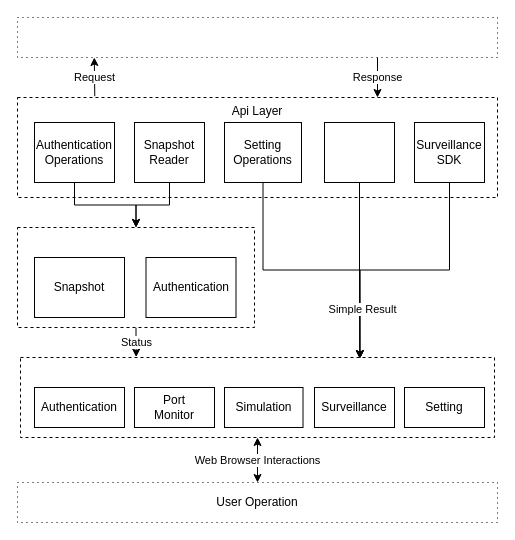
This 515x540 diagram has some shape labels left out. Each missing label, with the box of its shape:
Consistent Store: (16, 226, 254, 328)
NTSS Backend: (16, 16, 498, 58)
Simulation Reader: (324, 122, 394, 182)
Web Pages: (20, 356, 494, 438)
